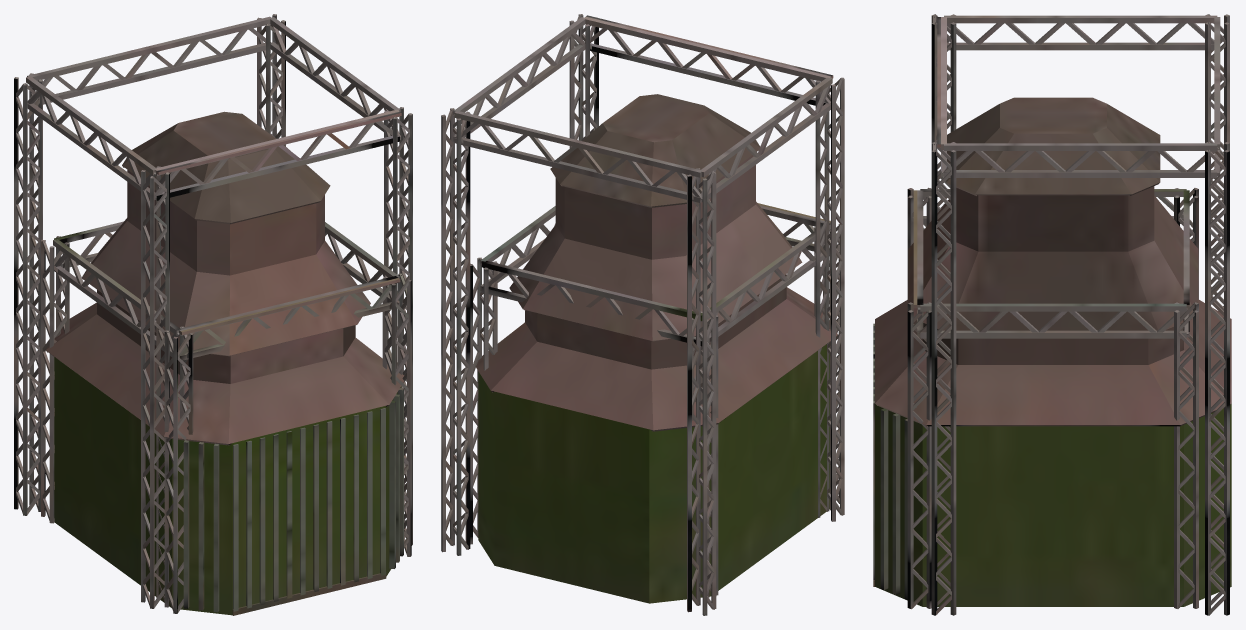
File: market.glb
3 renders of one model, left to right at view 1: azimuth 30°, elevation 25°; view 2: azimuth 150°, elevation 25°; view 3: azimuth 270°, elevation 25°, orthographic. The views are drawn at different scales.
Parts seen in each view (by area): view 1: body; view 2: body; view 3: body.
Boxes of the visible parts, bbox=[...] form: body: bbox=[14, 14, 412, 615]; body: bbox=[441, 14, 844, 615]; body: bbox=[873, 14, 1231, 615].
Size of the model in its own units: 2.75 by 4.33 by 3.02.
Materials: 1 (1 with a texture image).
